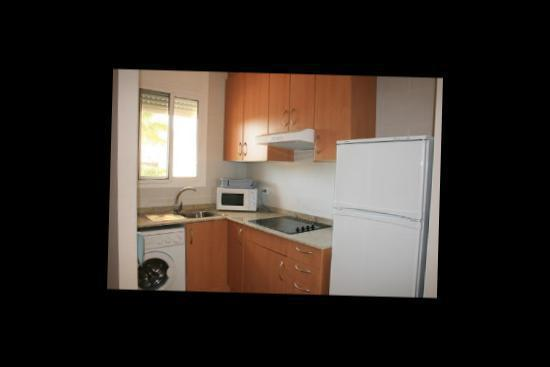Electrodomestico: (333, 142, 426, 297), (140, 230, 187, 289), (250, 209, 333, 235), (218, 187, 259, 214)
Lavaplatos: (148, 188, 222, 224)
